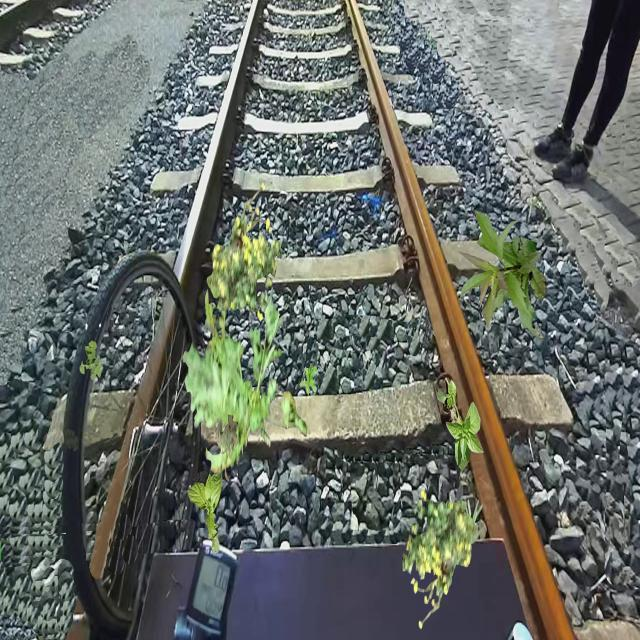Plant: (183, 287, 308, 483), (458, 210, 546, 340), (207, 182, 282, 322), (403, 490, 478, 630), (437, 377, 485, 472), (187, 471, 222, 554), (458, 498, 484, 554), (213, 414, 239, 456), (80, 340, 104, 381), (300, 364, 318, 396)
